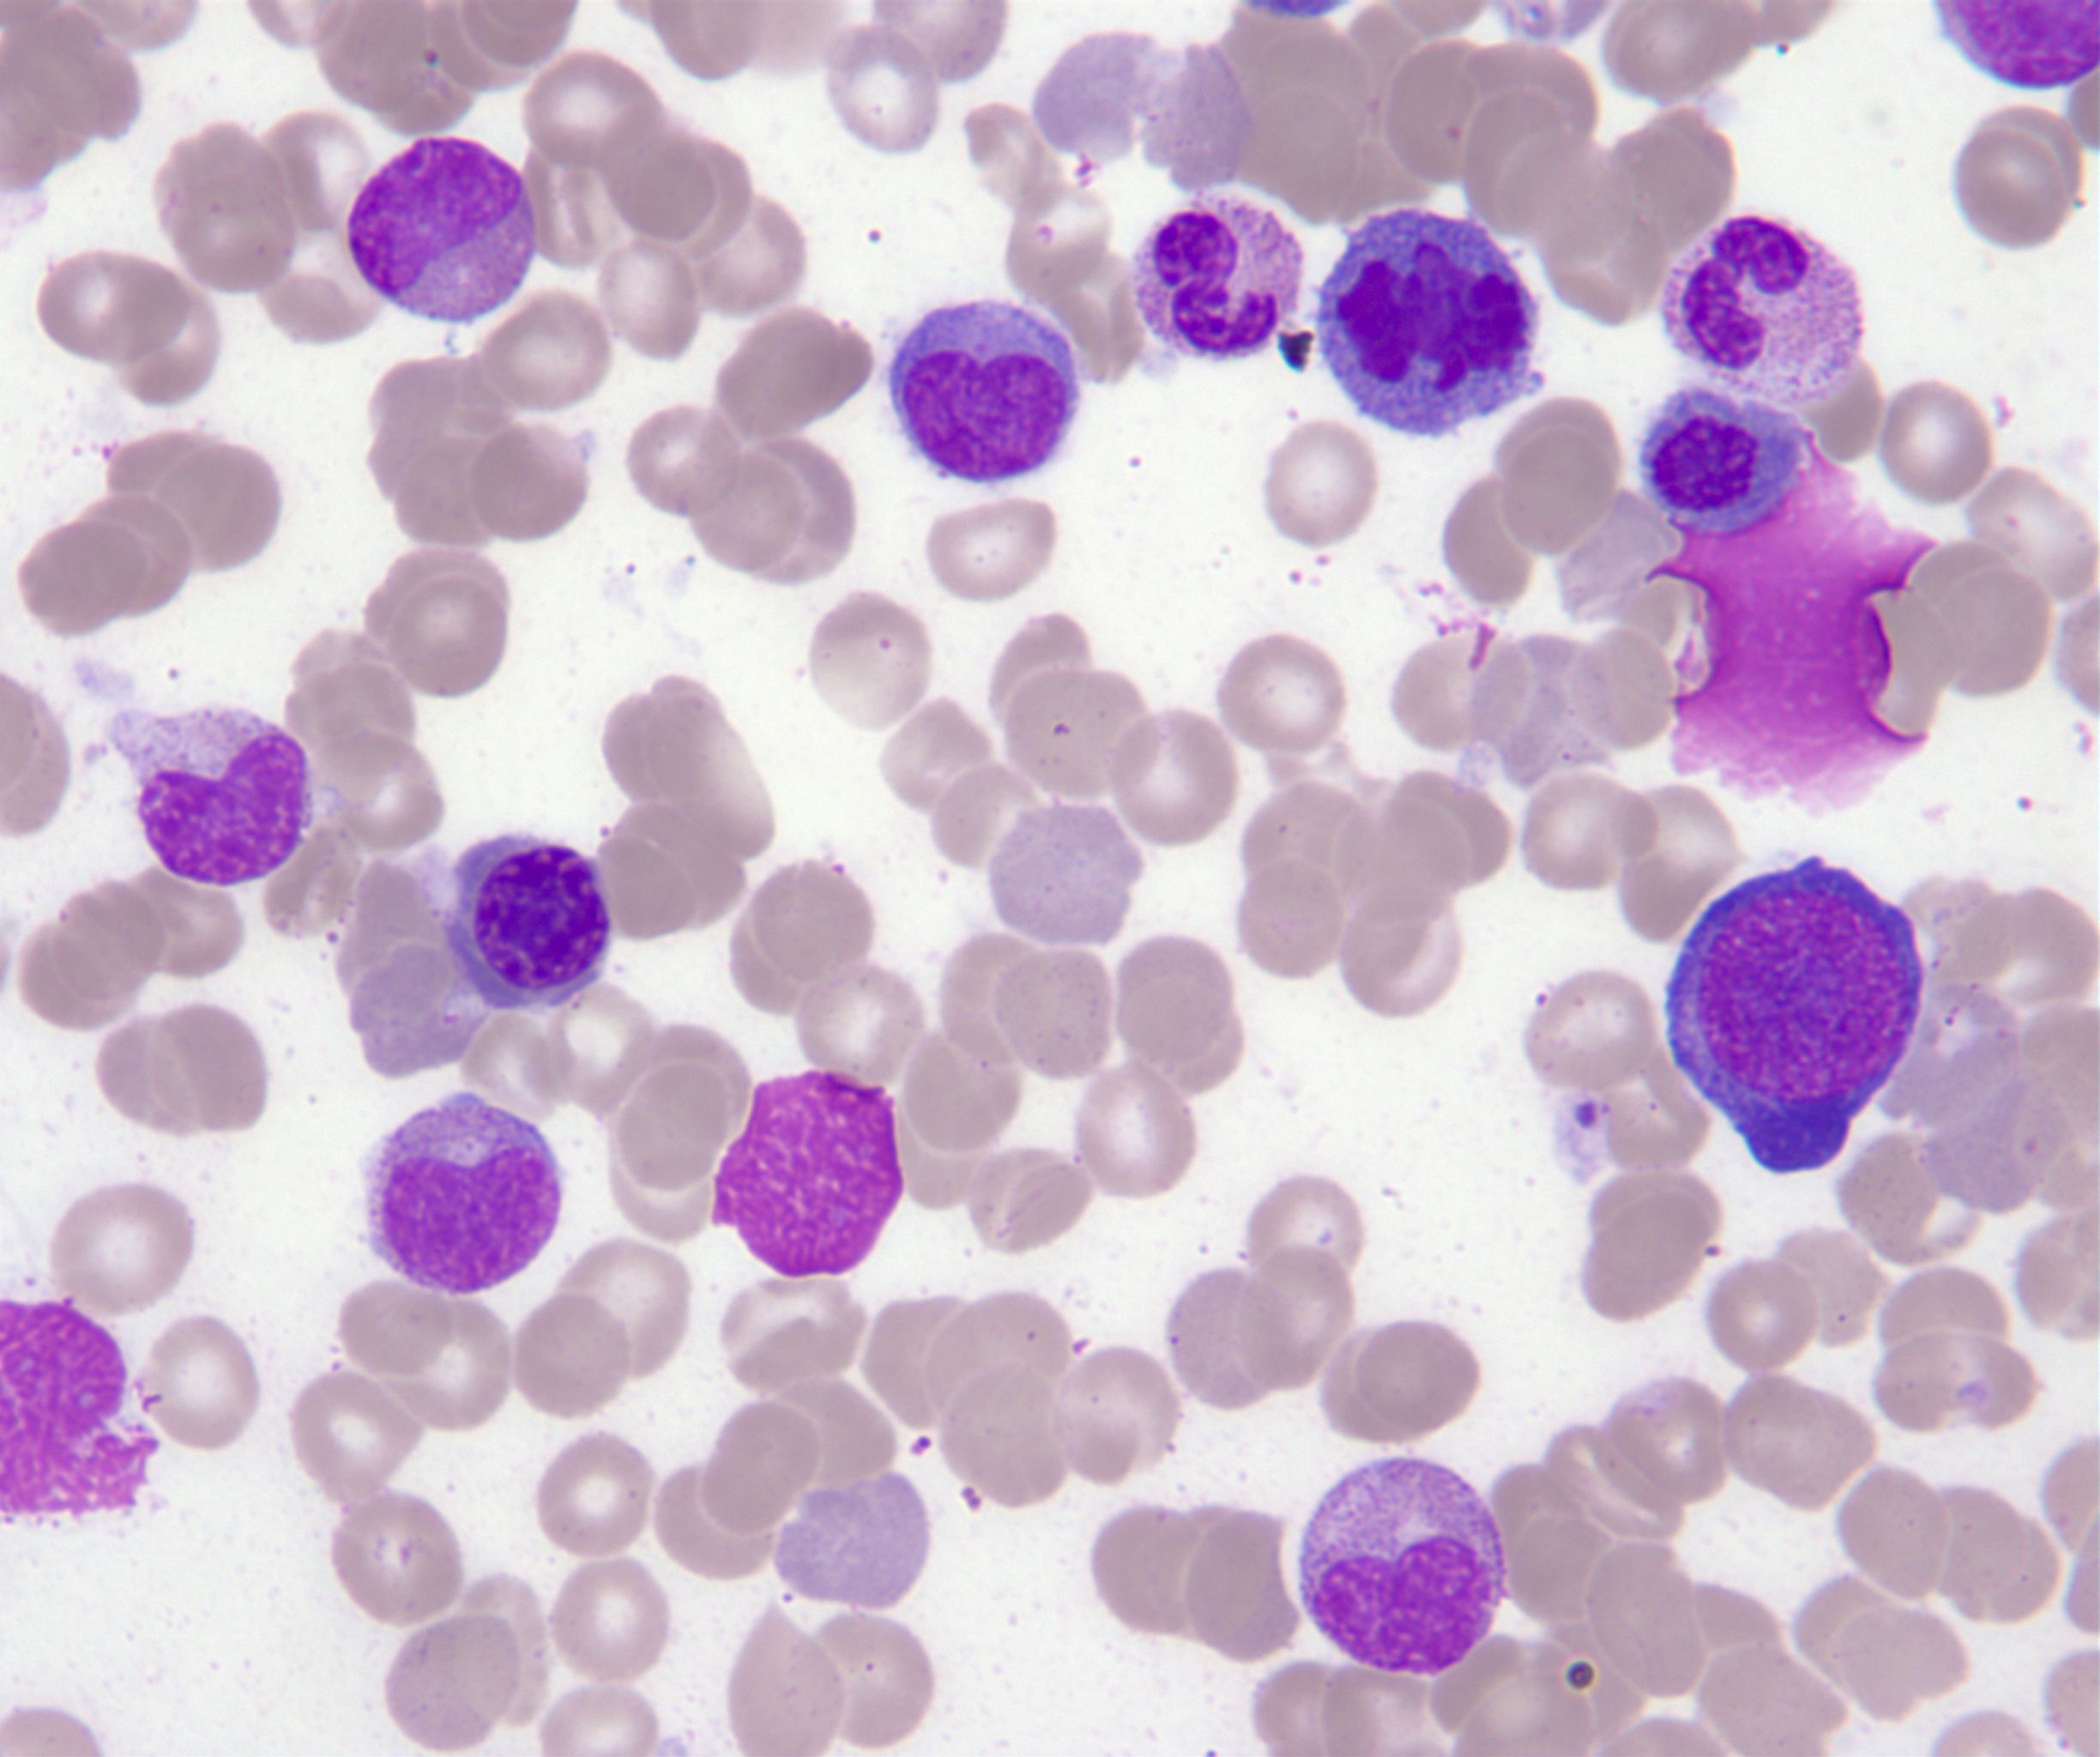22: (1669, 855, 1920, 1176)
23: (448, 836, 610, 1015)
24: (1641, 387, 1800, 532)
3: (349, 136, 534, 325)
4: (1299, 1460, 1505, 1675), (363, 1094, 560, 1293), (112, 708, 316, 885)
42: (891, 298, 1076, 482)
5: (1662, 215, 1863, 401), (1137, 199, 1301, 361)
x: (1648, 457, 1929, 806), (1315, 209, 1544, 438), (712, 1073, 902, 1277), (2, 1302, 152, 1523)
